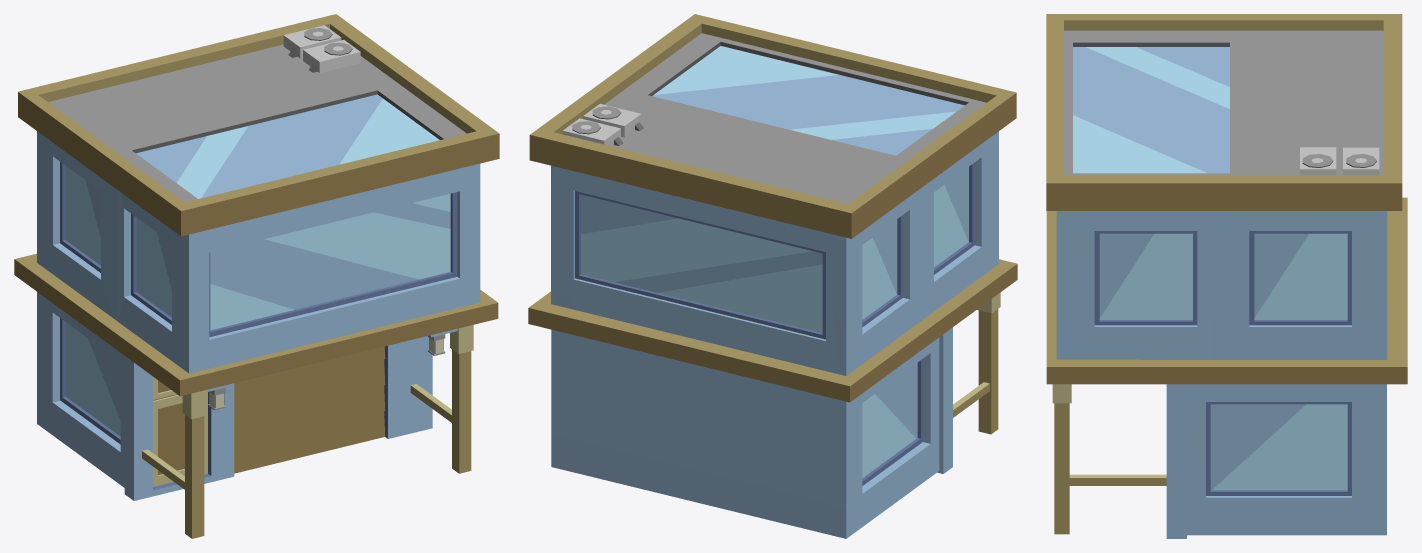
Rendered from cottage_005.fbx.
The picture shows the model from 3 angles, left to right: view 1: azimuth 30°, elevation 25°; view 2: azimuth 150°, elevation 25°; view 3: azimuth 270°, elevation 25°; orthographic projection. The views are drawn at different scales.
Parts seen in each view (by area): view 1: cottage_005; view 2: cottage_005; view 3: cottage_005.
Part boxes in pixels (x1,y1,x2,y2): cottage_005: [14, 14, 499, 538]; cottage_005: [528, 14, 1017, 538]; cottage_005: [1046, 14, 1407, 538].
Size of the model in its own units: 629 by 634 by 566.
